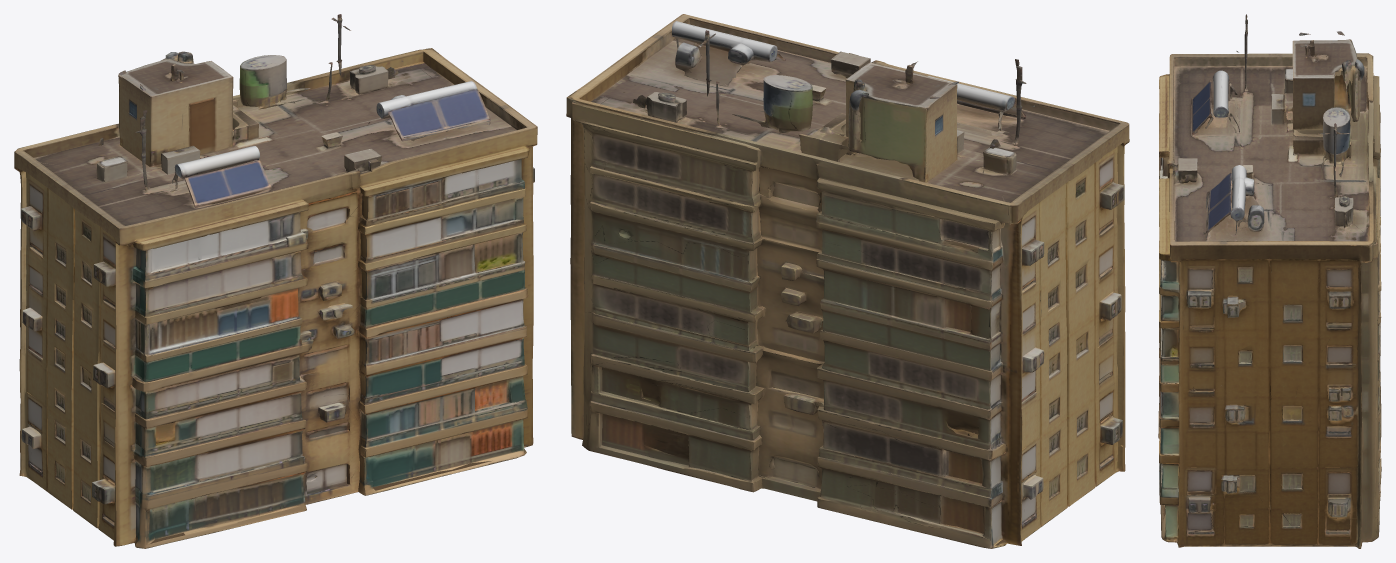
The model's file is r3_block8_a.glb.
3 views of the same model, side by side, from view 1: azimuth 30°, elevation 25°; view 2: azimuth 150°, elevation 25°; view 3: azimuth 270°, elevation 25° (orthographic). The views are drawn at different scales.
Parts seen in each view (by area): view 1: geometry_0; view 2: geometry_0; view 3: geometry_0.
Boxes of the visible parts, left/top/right/bottom form: geometry_0: left=14, top=14, right=537, bottom=548; geometry_0: left=566, top=14, right=1129, bottom=548; geometry_0: left=1158, top=14, right=1381, bottom=548.
Size of the model in its own units: 30 by 26 by 14.
Materials: 1 (1 with a texture image).
